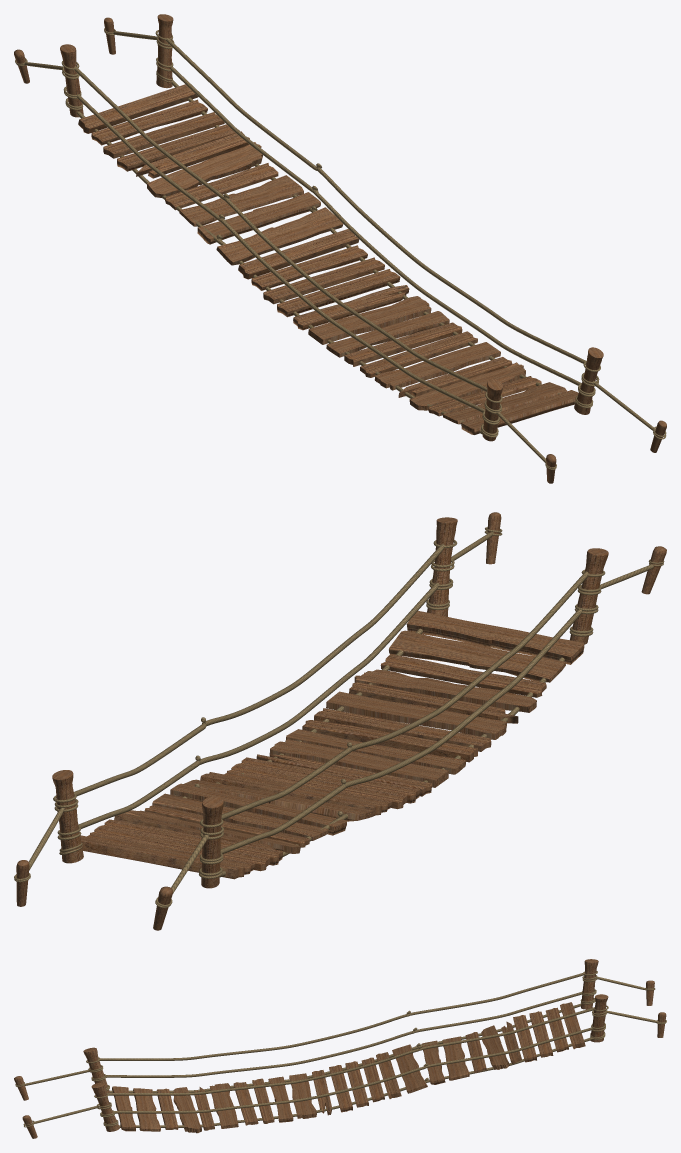
File: Bridge #1.fbx
3 renders of one model, top to bottom at view 1: azimuth 30°, elevation 25°; view 2: azimuth 150°, elevation 25°; view 3: azimuth 270°, elevation 25°, orthographic. The views are drawn at different scales.
Visible parts, largest first — view 1: polySurface17, polySurface2, polySurface4, polySurface68, polySurface72, polySurface5, polySurface18, polySurface61, polySurface21, polySurface69, polySurface20, polySurface60 (+25 smaller); view 2: polySurface76, polySurface77, polySurface72, polySurface74, polySurface68, polySurface75, polySurface70, polySurface61, polySurface71, polySurface5, polySurface69, polySurface73 (+25 smaller); view 3: polySurface63, polySurface64, polySurface22, polySurface65, polySurface17, polySurface68, polySurface76, polySurface72, polySurface4, polySurface74, polySurface2, polySurface77 (+27 smaller).
Part boxes in pixels (x1,y1,x2,y2): polySurface17: [216, 207, 343, 265]; polySurface2: [147, 142, 262, 198]; polySurface4: [179, 175, 303, 226]; polySurface68: [308, 296, 431, 344]; polySurface72: [374, 342, 500, 390]; polySurface5: [197, 192, 320, 244]; polySurface18: [238, 229, 359, 279]; polySurface61: [78, 84, 198, 133]; polySurface21: [277, 269, 400, 317]; polySurface69: [326, 311, 449, 357]; polySurface20: [263, 257, 384, 304]; polySurface60: [103, 112, 224, 158]; polySurface76: [389, 630, 565, 682]; polySurface77: [406, 611, 584, 664]; polySurface72: [326, 691, 506, 739]; polySurface74: [354, 669, 536, 712]; polySurface68: [269, 739, 448, 787]; polySurface75: [380, 654, 546, 697]; polySurface70: [302, 720, 478, 762]; polySurface61: [80, 835, 245, 879]; polySurface71: [314, 708, 491, 751]; polySurface5: [170, 783, 346, 835]; polySurface69: [286, 729, 465, 774]; polySurface73: [349, 682, 518, 723]; polySurface63: [112, 1063, 427, 1113]; polySurface64: [107, 1045, 422, 1095]; polySurface22: [97, 1010, 410, 1060]; polySurface65: [106, 1027, 417, 1077]; polySurface17: [392, 1044, 427, 1093]; polySurface68: [289, 1073, 316, 1118]; polySurface76: [133, 1088, 160, 1131]; polySurface72: [209, 1083, 238, 1128]; polySurface4: [442, 1036, 469, 1080]; polySurface74: [173, 1087, 201, 1133]; polySurface2: [481, 1025, 509, 1069]; polySurface77: [112, 1086, 136, 1131].
Size of the model in its own units: 552 by 410 by 2133.
